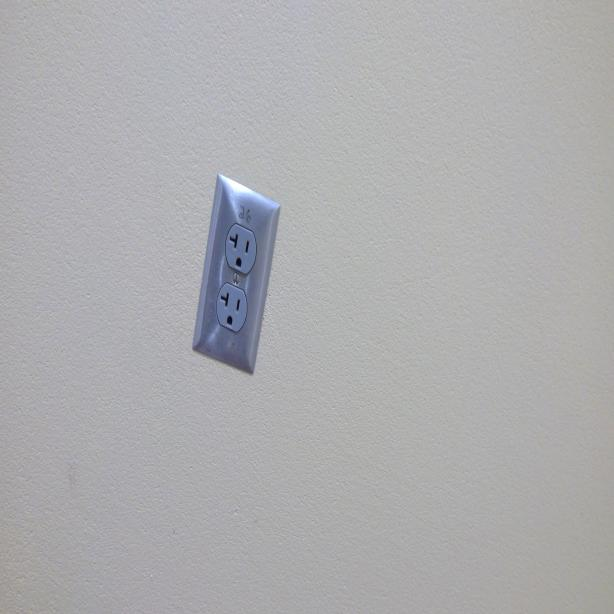typeb: (216, 286, 246, 330), (227, 226, 255, 272)
